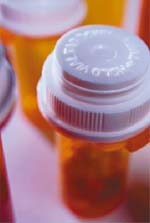pill bottle: (39, 26, 150, 219)
